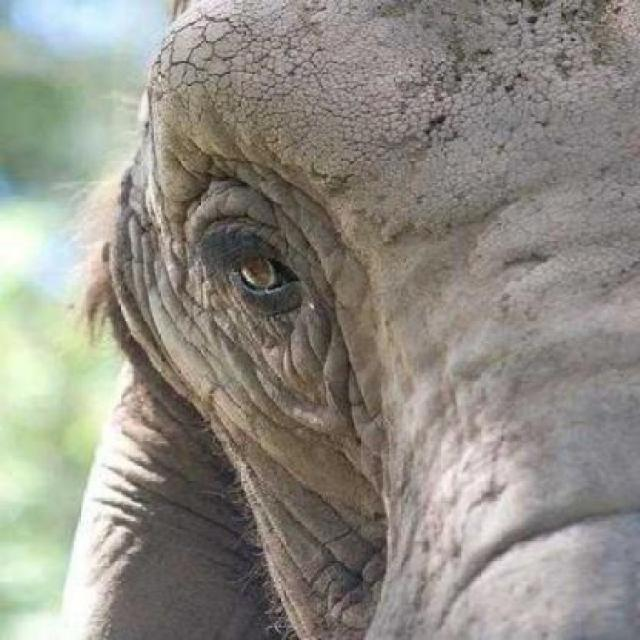Elephant: (20, 0, 637, 637)
